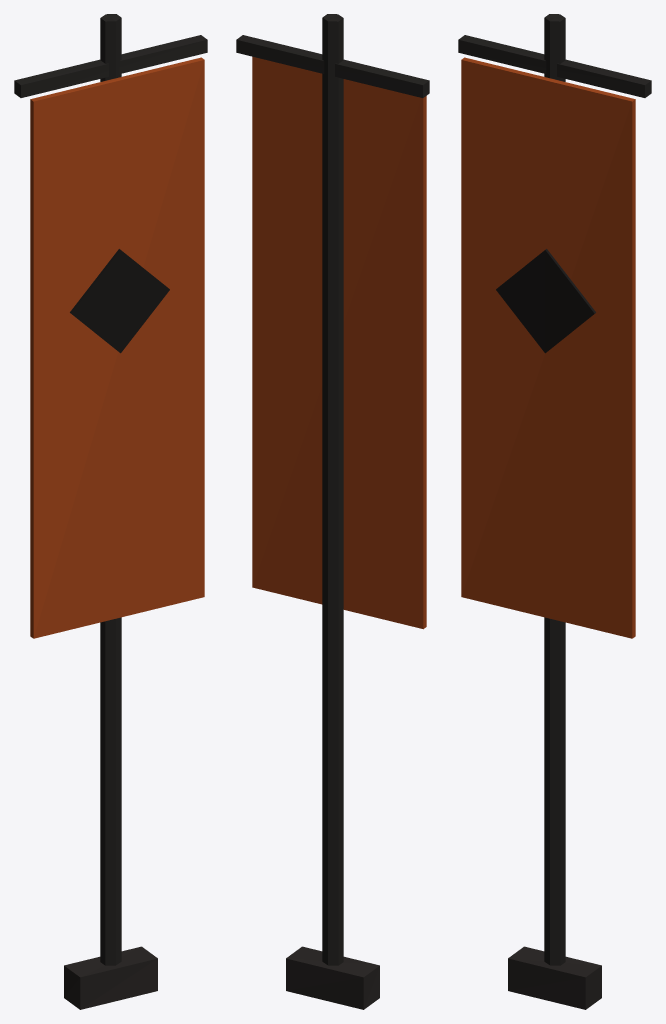
The model's file is rim-banner-a.glb.
3 views of the same model, side by side, from view 1: azimuth 30°, elevation 25°; view 2: azimuth 150°, elevation 25°; view 3: azimuth 330°, elevation 25° (orthographic).
Visible parts, largest first — view 1: rim-banner-a; view 2: rim-banner-a; view 3: rim-banner-a.
Part boxes in pixels (x1,y1,x2,y2): rim-banner-a: (14, 14, 207, 1009); rim-banner-a: (236, 14, 429, 1009); rim-banner-a: (458, 14, 651, 1009).
Bounding box in the file's own units: 1.2 × 6 × 0.2.
